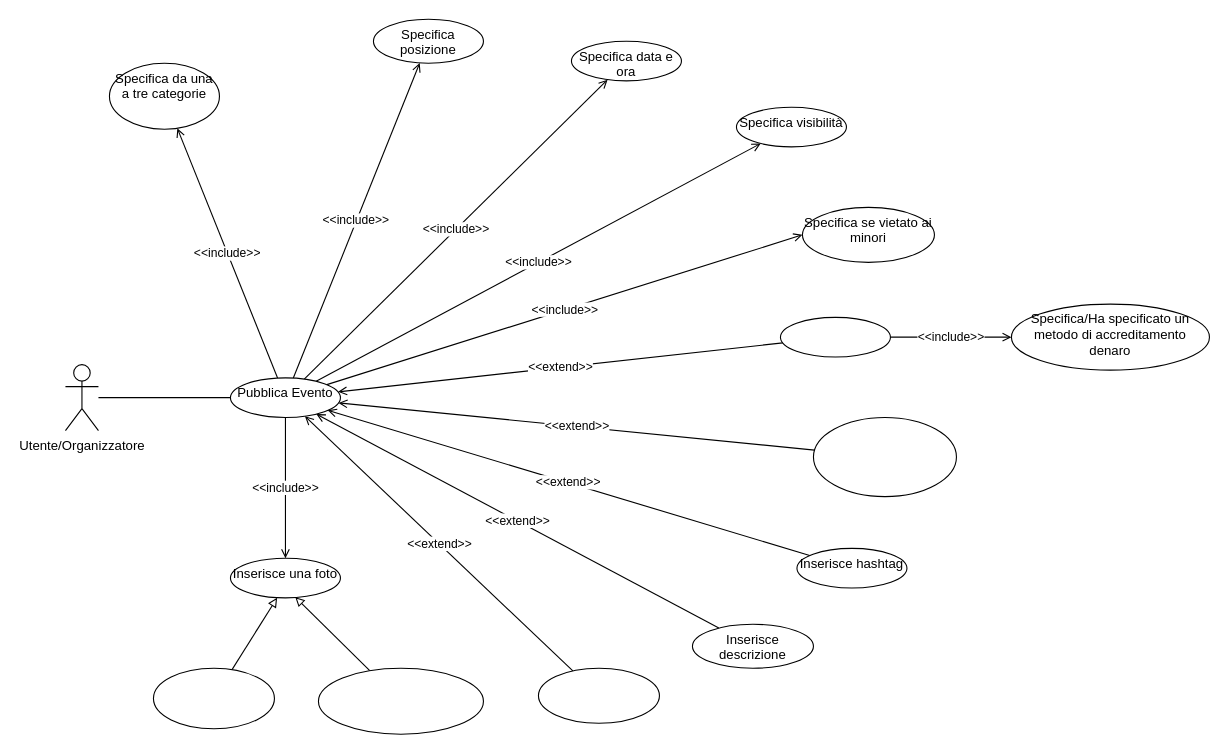
The diagram is 1229 pixels wide and 754 high, and some of its shapes have lost their labels. Here are the shapes that lost their labels. From the top down, the centre of each, then its label:
pixel 834 336: Inserisce prezzo
pixel 884 456: Crea un gruppo di messaggistica istantanea con gli iscritti
pixel 213 698: Inserisce una foto dal proprio dispositivo
pixel 400 700: Sceglie una tra le foto di default fornite dal Sistema
pixel 598 695: Inserisce limite di posti
